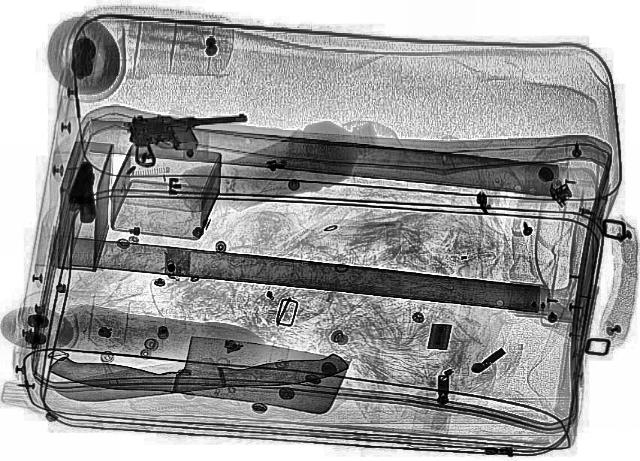Gun: (126, 110, 250, 166), (56, 160, 114, 224)
Knife: (42, 321, 350, 416), (52, 342, 352, 406)
